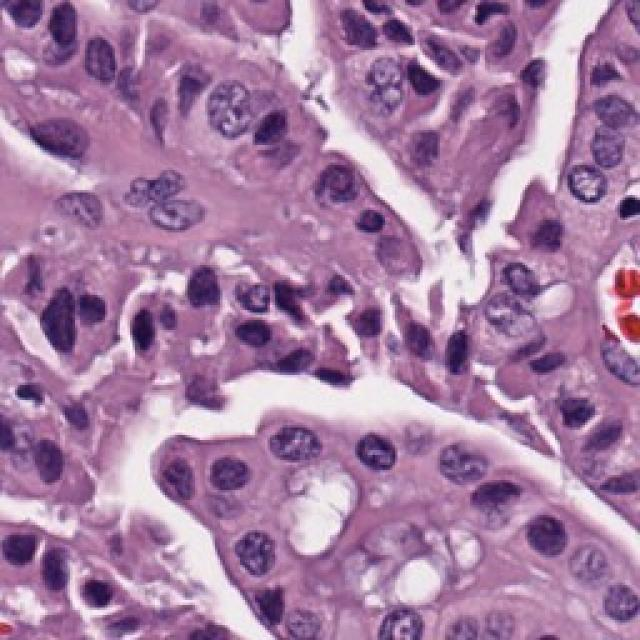abnormal: (185, 53, 273, 175), (38, 145, 132, 247), (10, 270, 102, 372), (138, 162, 235, 250), (415, 413, 508, 500), (350, 45, 438, 135), (480, 273, 562, 365), (307, 130, 377, 235), (248, 403, 332, 490), (212, 514, 303, 594), (548, 145, 632, 222), (518, 493, 595, 572), (138, 438, 212, 520), (200, 432, 272, 515), (170, 252, 242, 330), (335, 418, 397, 500), (570, 519, 628, 604), (465, 469, 540, 534), (355, 582, 437, 640)
